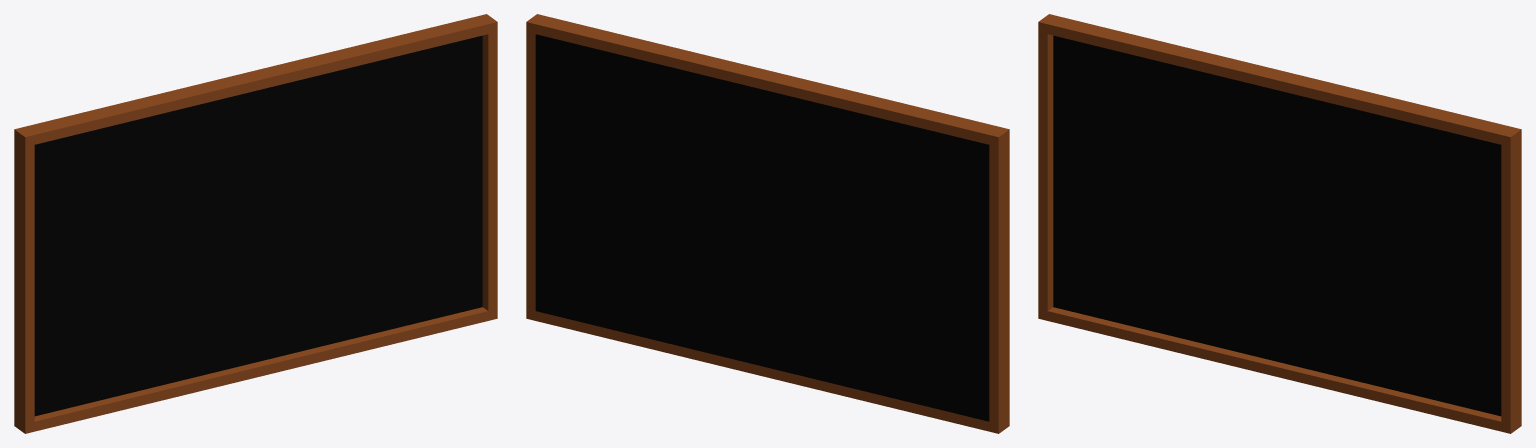
Rendered from writing_board.obj.
3 renders of one model, left to right at view 1: azimuth 30°, elevation 25°; view 2: azimuth 150°, elevation 25°; view 3: azimuth 330°, elevation 25°, orthographic.
Parts seen in each view (by area): view 1: writing_area_black, border_top_wood, border_bottom_wood, border_left_wood, border_right_wood; view 2: writing_area_black, border_top_wood, border_left_wood, border_bottom_wood, border_right_wood; view 3: writing_area_black, border_top_wood, border_bottom_wood, border_right_wood, border_left_wood.
Part boxes in pixels (x1=…): writing_area_black: x1=34, y1=35, x2=482, y2=416; border_top_wood: x1=14, y1=14, x2=497, y2=146; border_bottom_wood: x1=14, y1=307, x2=497, y2=433; border_left_wood: x1=14, y1=139, x2=34, y2=423; border_right_wood: x1=482, y1=32, x2=497, y2=310; writing_area_black: x1=535, y1=34, x2=989, y2=421; border_top_wood: x1=526, y1=14, x2=1009, y2=146; border_left_wood: x1=989, y1=139, x2=1009, y2=423; border_bottom_wood: x1=526, y1=309, x2=1009, y2=433; border_right_wood: x1=526, y1=32, x2=535, y2=310; writing_area_black: x1=1053, y1=35, x2=1501, y2=416; border_top_wood: x1=1038, y1=14, x2=1521, y2=146; border_bottom_wood: x1=1038, y1=307, x2=1521, y2=433; border_right_wood: x1=1501, y1=139, x2=1521, y2=423; border_left_wood: x1=1038, y1=32, x2=1053, y2=310.
Bounding box in the file's own units: 0.5 × 0.3 × 0.02.
